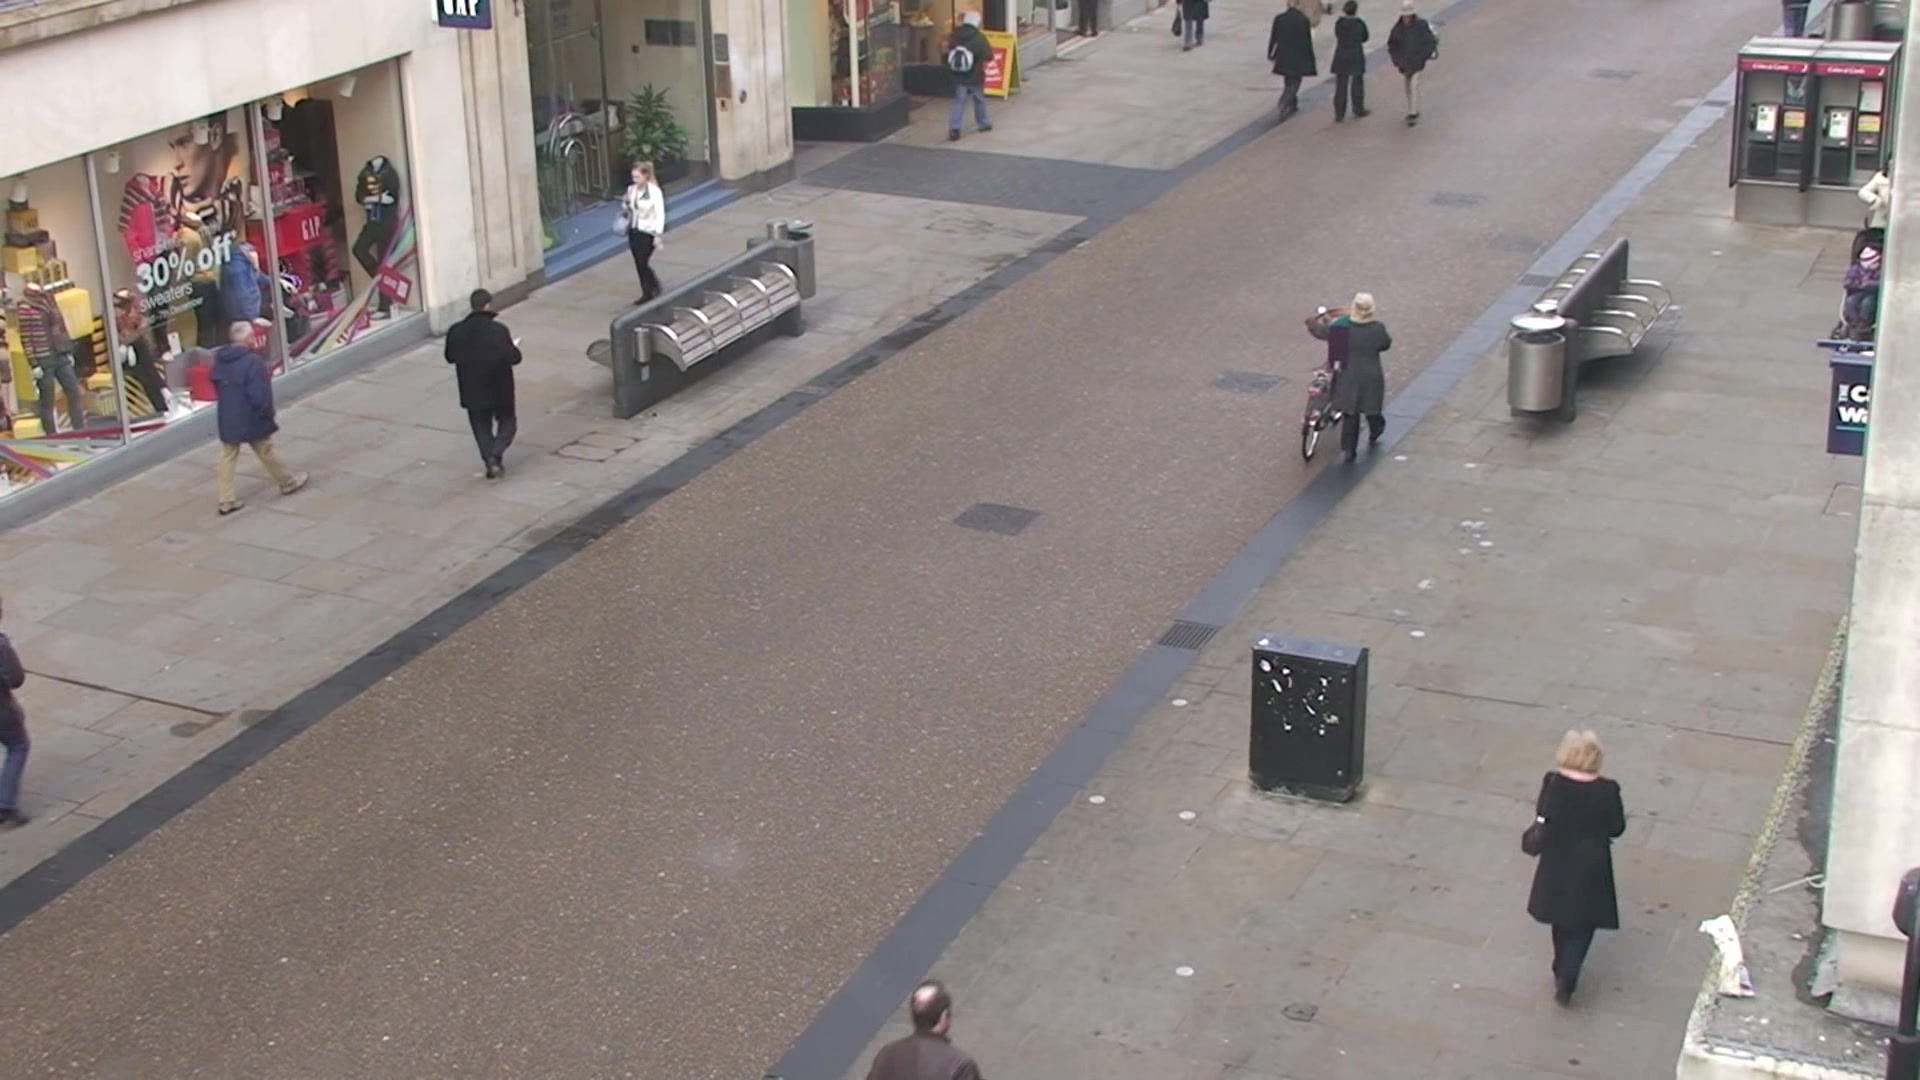person: (1520, 730, 1627, 1007), (210, 321, 310, 519), (1304, 290, 1391, 471), (445, 289, 525, 484), (610, 156, 668, 306), (939, 12, 996, 145)
